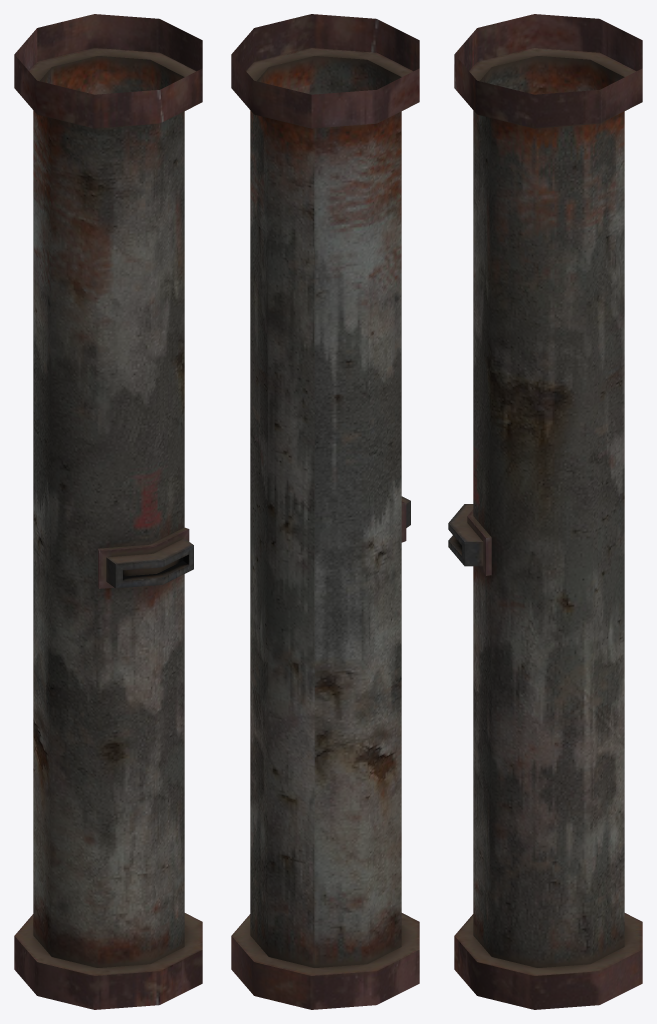
The model's file is ThickPipe_01.FBX.
3 renders of one model, left to right at view 1: azimuth 30°, elevation 25°; view 2: azimuth 150°, elevation 25°; view 3: azimuth 270°, elevation 25°, orthographic.
Visible parts, largest first — view 1: ~; view 2: ~; view 3: ~.
Boxes of the visible parts, bbox=[...] form: ~: bbox=[14, 14, 202, 1009]; ~: bbox=[231, 14, 419, 1009]; ~: bbox=[448, 14, 642, 1009].
Bounding box in the file's own units: 59 × 312 × 59.95.
Materials: 1 (1 with a texture image).
